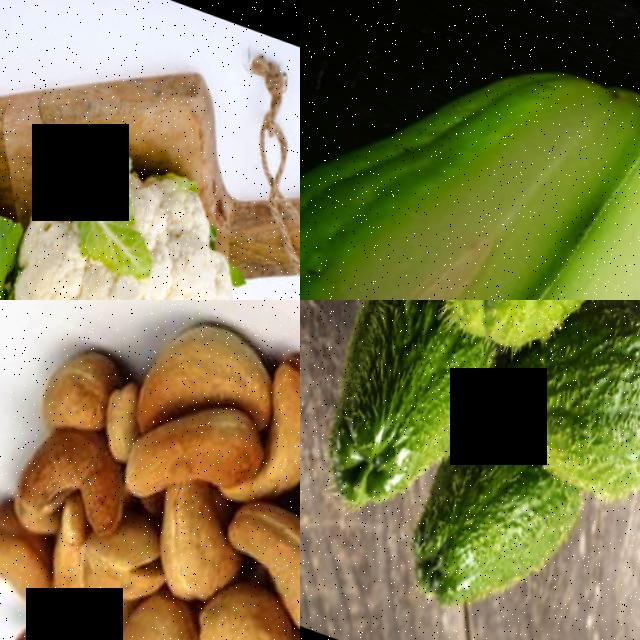cashew: (103, 300, 289, 424), (112, 388, 255, 502), (0, 422, 130, 528), (199, 495, 300, 630), (240, 337, 300, 501), (0, 499, 63, 632), (98, 580, 215, 640), (31, 340, 110, 423), (182, 586, 300, 640), (0, 599, 95, 640)
cauliflower: (0, 93, 296, 300)
chayote: (300, 0, 581, 300), (302, 300, 471, 509), (497, 300, 640, 513), (514, 79, 640, 300)
